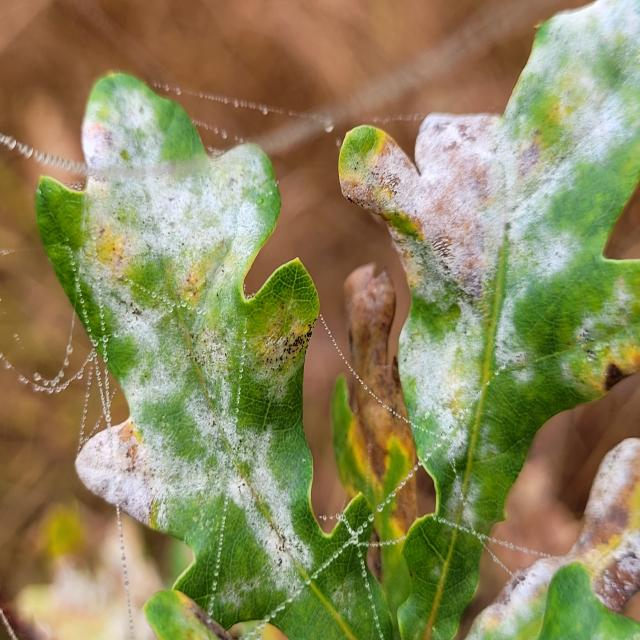powdery_mildew: (36, 74, 390, 640), (339, 0, 640, 638)
